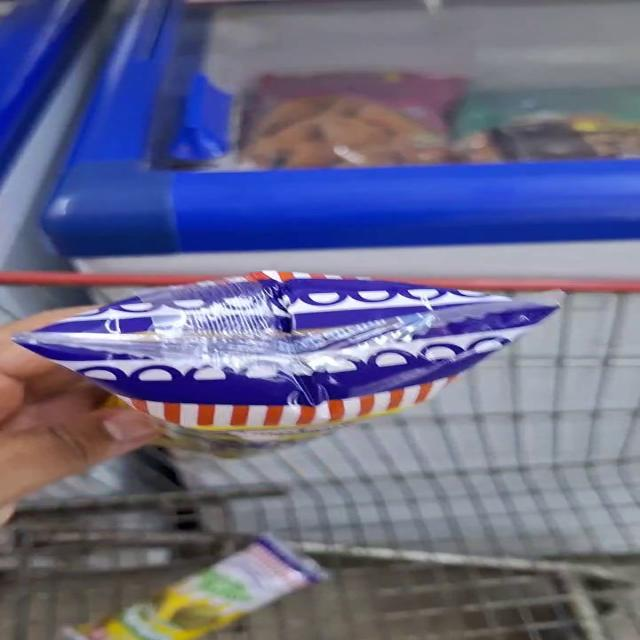Roti: (20, 287, 592, 445), (56, 534, 370, 640)
